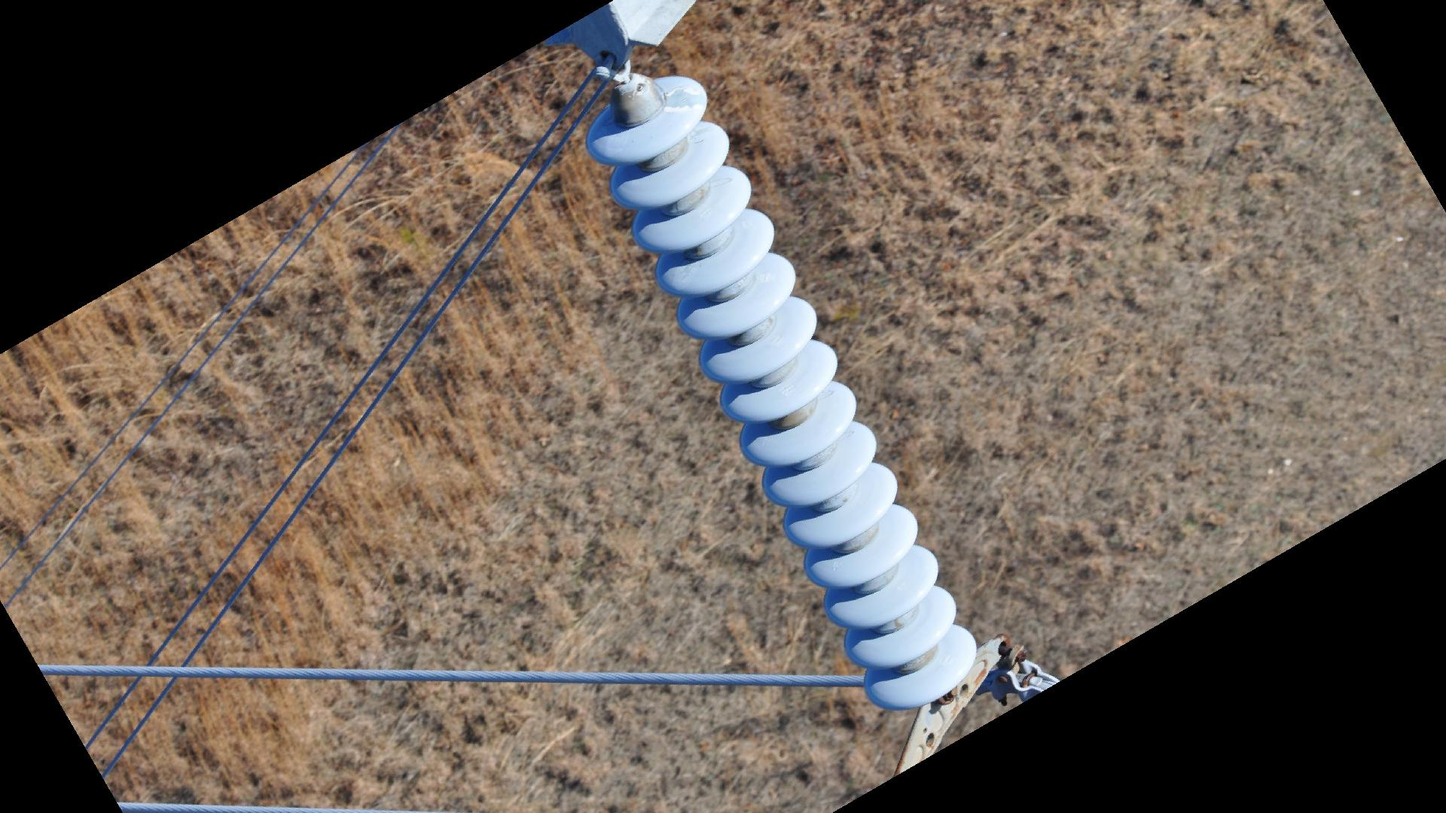insulator: (581, 69, 982, 715)
insulator_flashover: (658, 81, 710, 114)
